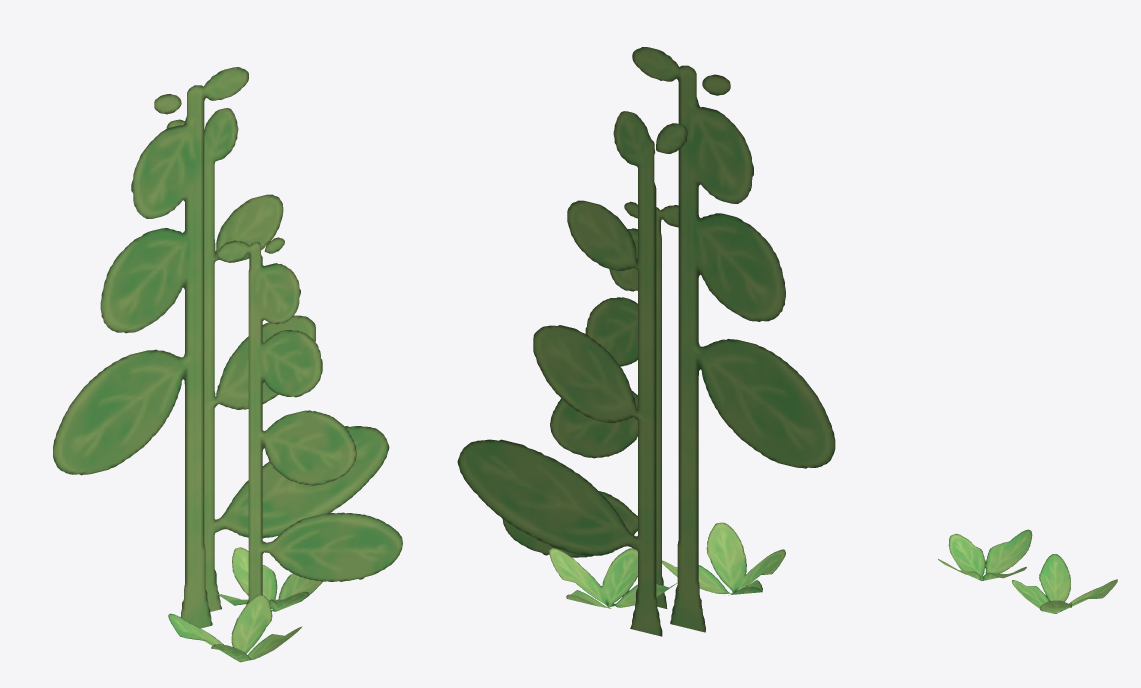
The model's file is LeafSetE_7.fbx.
The picture shows the model from 3 angles, left to right: view 1: azimuth 30°, elevation 25°; view 2: azimuth 150°, elevation 25°; view 3: azimuth 270°, elevation 25°; orthographic projection. The views are drawn at different scales.
Parts seen in each view (by area): view 1: LeafSetE_7; view 2: LeafSetE_7; view 3: LeafSetE_7.
Boxes of the visible parts, box(x1,y1,x2,y2) form: LeafSetE_7: box(53, 67, 402, 662); LeafSetE_7: box(457, 47, 835, 636); LeafSetE_7: box(938, 529, 1117, 613).
Bounding box in the file's own units: 0.5126 × 0.6947 × 0.286.
